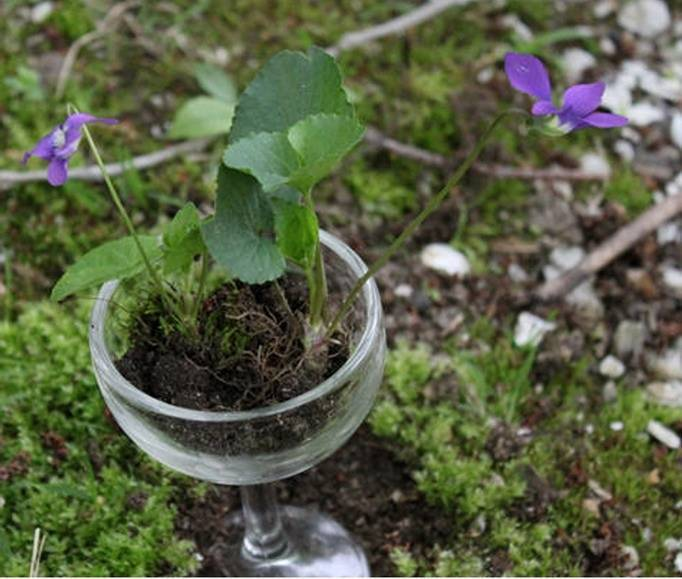violet: (513, 39, 628, 151), (24, 105, 115, 189)
